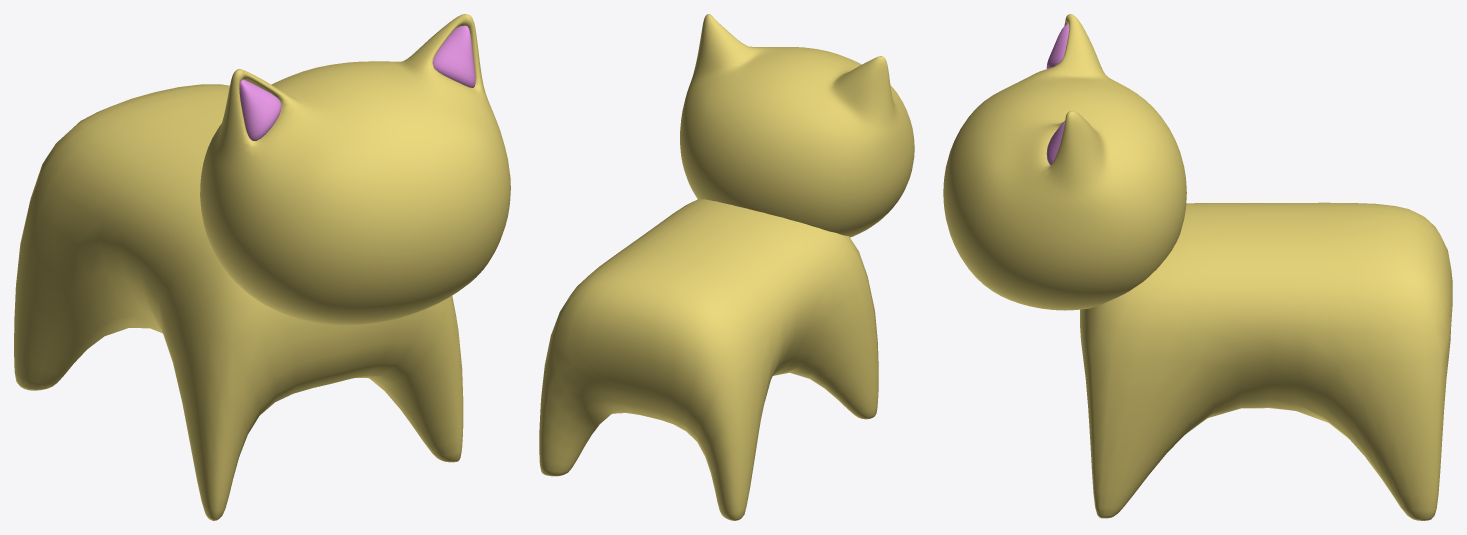
File: tiger.glb
3 views of the same model, side by side, from view 1: azimuth 30°, elevation 25°; view 2: azimuth 150°, elevation 25°; view 3: azimuth 270°, elevation 25° (orthographic). The views are drawn at different scales.
Parts seen in each view (by area): view 1: Cube, 立方体, 立方体.001; view 2: Cube, 立方体; view 3: Cube, 立方体, 立方体.001.
Part boxes in pixels (x1,y1,x2,y2): Cube: (14, 84, 463, 520); 立方体: (200, 14, 510, 325); 立方体.001: (239, 25, 475, 140); Cube: (539, 199, 878, 520); 立方体: (680, 14, 914, 237); Cube: (1080, 202, 1452, 520); 立方体: (943, 14, 1186, 310); 立方体.001: (1046, 24, 1069, 165).
Size of the model in its own units: 1.47 by 2.37 by 2.72.
